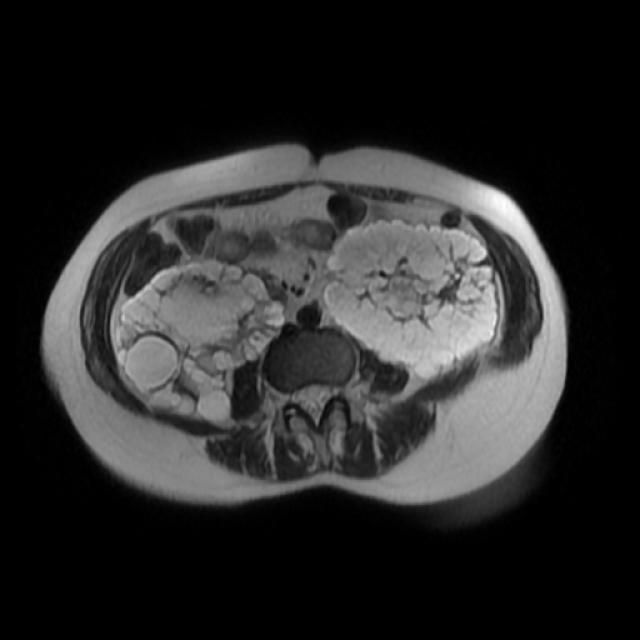sag: (110, 256, 286, 428)
sol: (320, 216, 499, 382)
